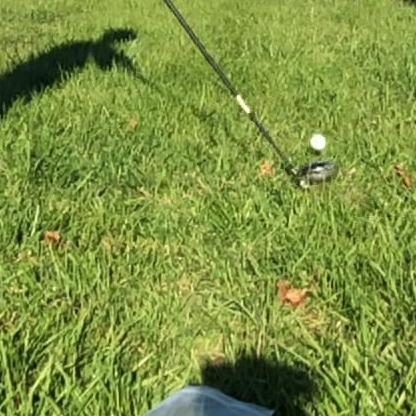golfball: (306, 130, 323, 147)
